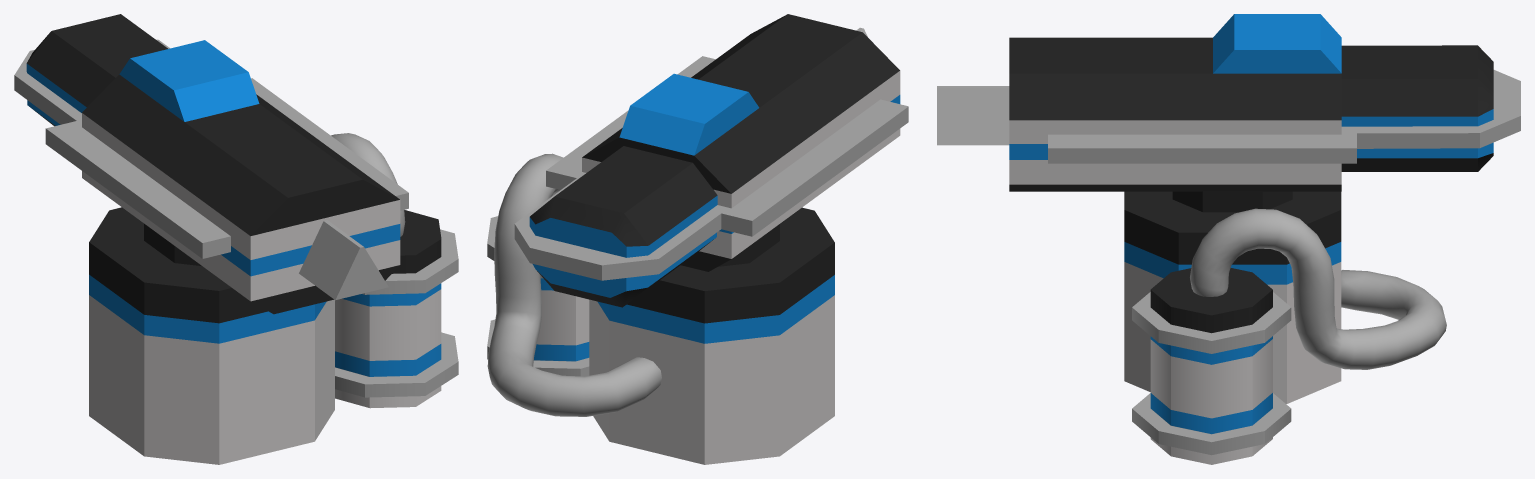
File: Laser.fbx
The picture shows the model from 3 angles, left to right: view 1: azimuth 30°, elevation 25°; view 2: azimuth 150°, elevation 25°; view 3: azimuth 270°, elevation 25°; orthographic projection.
Parts seen in each view (by area): view 1: Base, Body, Battery, LBody, CoreP, LGun, L, L1, Pipe; view 2: Base, Body, CoreP, LBody, Pipe, Battery, L; view 3: Body, Base, Pipe, Battery, CoreP, LBody, LGun, L, L1.
Boxes of the visible parts, <box> form: Base: <box>89,207,334,464</box>; Body: <box>82,40,400,314</box>; Battery: <box>335,210,441,408</box>; LBody: <box>14,39,408,258</box>; CoreP: <box>26,14,167,126</box>; LGun: <box>299,220,388,300</box>; L: <box>335,332,458,397</box>; L1: <box>362,229,458,294</box>; Pipe: <box>331,133,405,236</box>; Base: <box>589,207,834,464</box>; Body: <box>582,14,900,271</box>; CoreP: <box>529,146,717,307</box>; LBody: <box>514,56,908,280</box>; Pipe: <box>487,153,661,416</box>; Battery: <box>533,278,589,361</box>; L: <box>487,319,589,376</box>; Body: <box>1009,14,1341,191</box>; Base: <box>1124,191,1341,403</box>; Pipe: <box>1190,208,1446,369</box>; Battery: <box>1150,268,1272,464</box>; CoreP: <box>1341,45,1493,171</box>; LBody: <box>1048,70,1520,163</box>; LGun: <box>937,86,1009,145</box>; L: <box>1132,393,1291,455</box>; L1: <box>1132,292,1291,353</box>.
Size of the model in its own units: 3.62 by 3.45 by 5.55.
